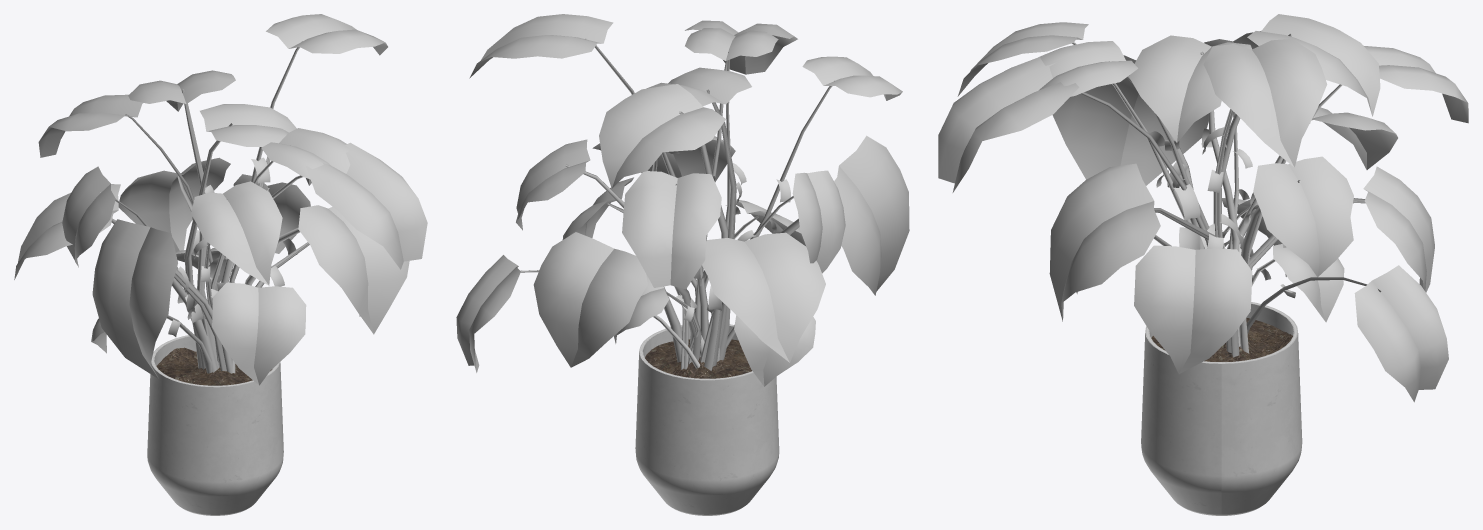
Rendered from SM_Plant.fbx.
3 views of the same model, side by side, from view 1: azimuth 30°, elevation 25°; view 2: azimuth 150°, elevation 25°; view 3: azimuth 270°, elevation 25° (orthographic). The views are drawn at different scales.
Parts seen in each view (by area): view 1: SM_Plant_LOD0; view 2: SM_Plant_LOD0; view 3: SM_Plant_LOD0.
Part boxes in pixels (x1,y1,x2,y2): SM_Plant_LOD0: (14, 14, 427, 515); SM_Plant_LOD0: (456, 14, 909, 515); SM_Plant_LOD0: (938, 14, 1468, 515).
Size of the model in its own units: 91.35 by 104 by 110.
